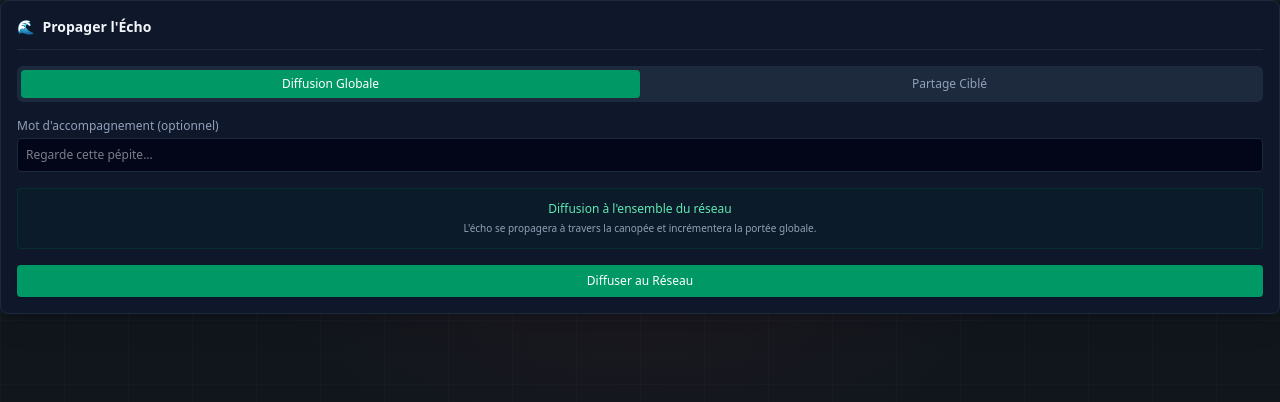
Test: UI: PropagationPanel (Panneau de Diffusion Organique) › 🟢 doit basculer vers le mode ciblé et afficher la liste des contacts lors du clic sur Partage Ciblé
Click the button "Partage Ciblé" at (950, 84), box x1=640 y1=70 x2=1259 y2=98
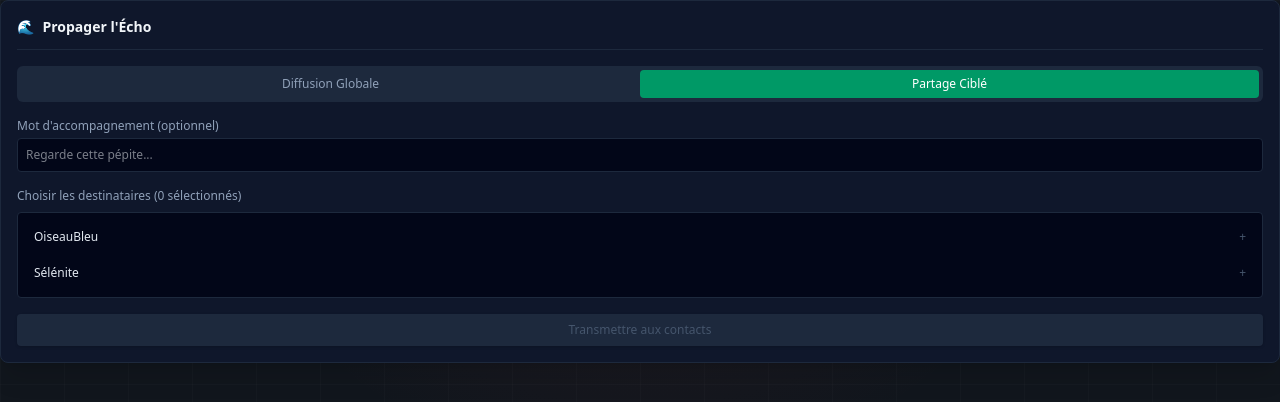
Expected: the text "OiseauBleu" is shown, x1=34 y1=229 x2=98 y2=245
Expected: the text "Sélénite" is shown, x1=34 y1=265 x2=79 y2=281
Expected: the button "Transmettre aux contacts" is shown, x1=17 y1=314 x2=1263 y2=346
